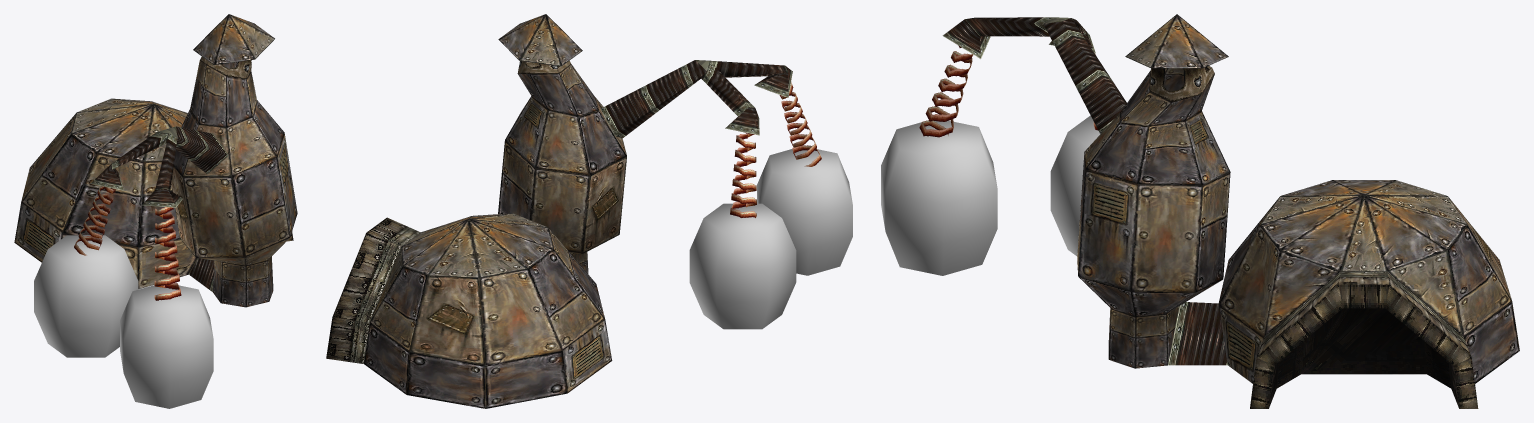
Rendered from distillery.obj.
3 views of the same model, side by side, from view 1: azimuth 30°, elevation 25°; view 2: azimuth 150°, elevation 25°; view 3: azimuth 270°, elevation 25° (orthographic). The views are drawn at different scales.
Parts seen in each view (by area): view 1: Geoset1, Geoset2, Geoset0, Geoset3, Geoset6, Geoset5; view 2: Geoset1, Geoset2, Geoset0, Geoset3, Geoset7, Geoset6, Geoset5; view 3: Geoset1, Geoset0, Geoset2, Geoset3, Geoset7, Geoset4, Geoset6, Geoset5.
Boxes of the visible parts, x1,y1,x2,y2 form: Geoset1: (14, 60, 297, 307); Geoset2: (34, 235, 213, 408); Geoset0: (71, 14, 274, 161); Geoset3: (90, 126, 228, 291); Geoset6: (74, 186, 181, 300); Geoset5: (200, 56, 251, 78); Geoset1: (364, 64, 626, 408); Geoset2: (689, 149, 852, 329); Geoset0: (370, 14, 582, 321); Geoset3: (601, 60, 792, 138); Geoset7: (326, 217, 420, 363); Geoset6: (730, 82, 821, 217); Geoset5: (517, 61, 570, 73); Geoset1: (1077, 67, 1519, 383); Geoset0: (1125, 14, 1467, 336); Geoset2: (881, 115, 1100, 275); Geoset3: (942, 17, 1227, 365); Geoset7: (1250, 271, 1478, 408); Geoset4: (1269, 308, 1458, 407); Geoset6: (919, 45, 1098, 137); Geoset5: (1150, 65, 1214, 101).
Size of the model in its own units: 3.3 by 2.85 by 4.88.
